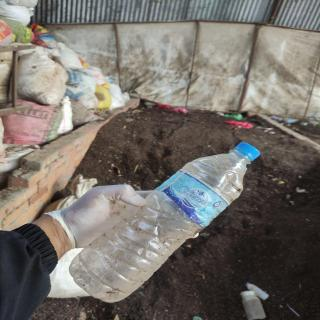Plastic-bottle: (66, 137, 267, 308)
